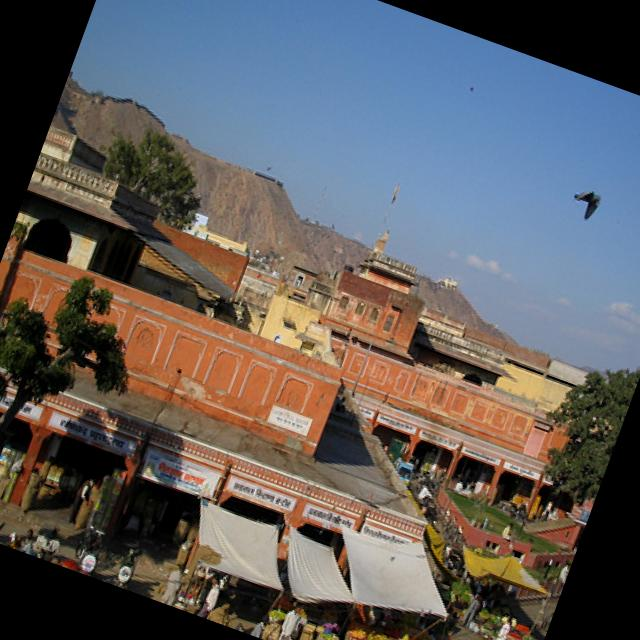Vehicle: (112, 543, 144, 591), (74, 537, 106, 578)
